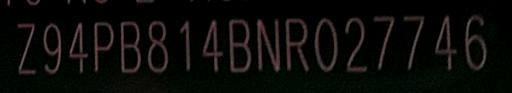letter: (430, 11, 460, 74), (224, 15, 254, 76), (282, 16, 312, 75), (462, 10, 490, 73), (252, 16, 282, 73), (311, 14, 339, 73), (342, 15, 370, 74), (143, 17, 171, 76), (12, 18, 40, 75), (199, 16, 225, 75), (117, 17, 143, 76), (372, 13, 396, 72), (401, 13, 425, 72), (67, 18, 91, 75), (92, 18, 114, 77), (40, 21, 62, 76), (175, 17, 193, 76)
